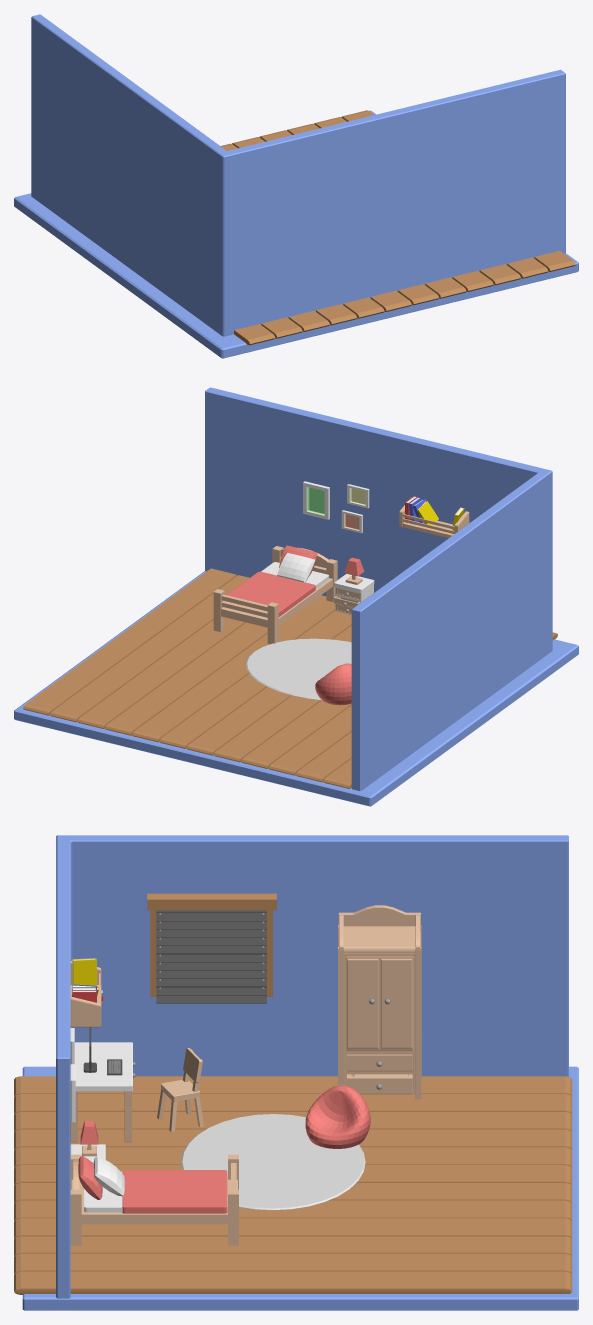
The model's file is odagiris.fbx.
The picture shows the model from 3 angles, top to bottom: view 1: azimuth 30°, elevation 25°; view 2: azimuth 150°, elevation 25°; view 3: azimuth 270°, elevation 25°; orthographic projection. The views are drawn at different scales.
Parts seen in each view (by area): view 1: Wall, Floor, Wood floor 1, Wood floor 1.001; view 2: Wall, Wood floor 1.001, Wood floor 1, Floor, Bed 1, Carpet 1, Seat 1, Bedside table 1, Wall bookshelf.001, Picture 1.001, Book stack 2.001; view 3: Wall, Wood floor 1.001, Wood floor 1, Wardrobe 1, Carpet 1, Floor, Bed 1, Plane.001, Seat 1, Table 1, Plane.004, Chair 1 (+3 smaller).
Part boxes in pixels (box(x1,y1,x2,y2)): Wall: box(31, 14, 565, 336); Floor: box(14, 110, 578, 358); Wood floor 1: box(220, 143, 438, 345); Wood floor 1.001: box(232, 110, 575, 298); Wall: box(205, 387, 552, 790); Wood floor 1.001: box(23, 568, 334, 742); Wood floor 1: box(159, 611, 557, 788); Floor: box(14, 571, 578, 806); Bed 1: box(213, 545, 337, 644); Carpet 1: box(246, 638, 351, 700); Seat 1: box(315, 663, 351, 705); Bedside table 1: box(334, 573, 374, 614); Wall bookshelf.001: box(399, 498, 469, 538); Picture 1.001: box(303, 481, 329, 519); Book stack 2.001: box(405, 496, 438, 525); Wall: box(56, 835, 568, 1298); Wood floor 1.001: box(14, 1200, 572, 1294); Wood floor 1: box(14, 1076, 572, 1202); Wardrobe 1: box(338, 905, 421, 1099); Carpet 1: box(181, 1114, 365, 1210); Floor: box(22, 1066, 578, 1310); Bed 1: box(70, 1154, 238, 1245); Plane.001: box(156, 910, 266, 1003); Seat 1: box(305, 1085, 370, 1148); Table 1: box(70, 1042, 135, 1142); Plane.004: box(147, 893, 276, 910); Chair 1: box(157, 1048, 203, 1132).
Bounding box in the file's own units: 1491 × 757 × 1529.
